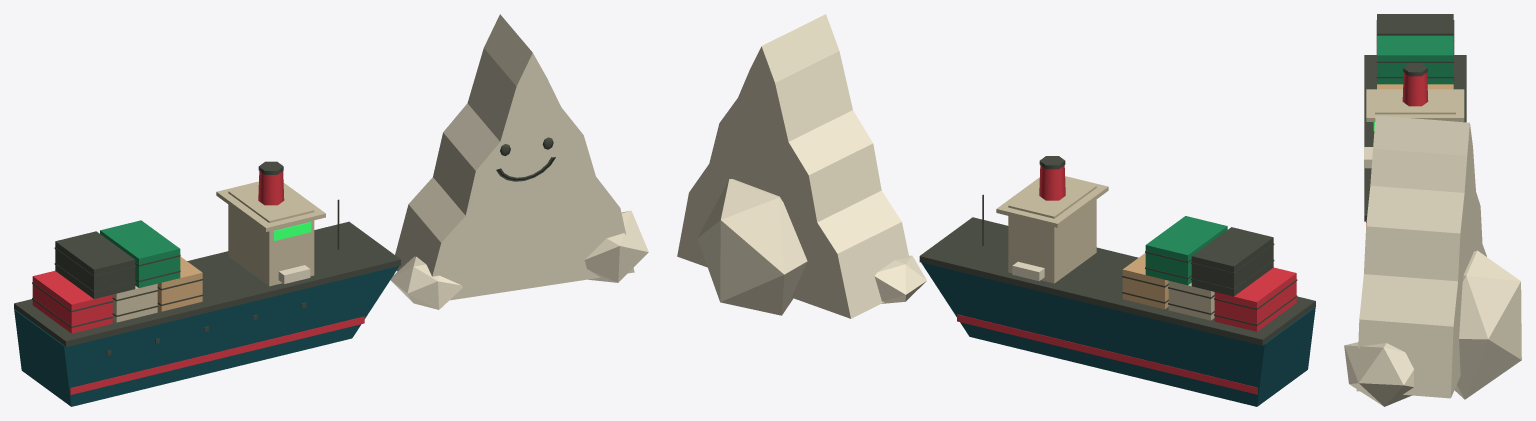
The model's file is containership-iceberg.glb.
3 views of the same model, side by side, from view 1: azimuth 30°, elevation 25°; view 2: azimuth 150°, elevation 25°; view 3: azimuth 270°, elevation 25° (orthographic). The views are drawn at different scales.
Parts seen in each view (by area): view 1: Iceberg, Ship, toy_hop_3, toy_hop_0, toy_hop_4, toy_hop_2, toy_hop_1; view 2: Iceberg, Ship, toy_hop_3, toy_hop_0, toy_hop_4, toy_hop_2, toy_hop_1; view 3: Iceberg, Ship, toy_hop_4, toy_hop_3, toy_hop_2.
Boxes of the visible parts, box(x1,y1,x2,y2) form: Iceberg: box(390, 14, 648, 309); Ship: box(14, 161, 400, 406); toy_hop_3: box(54, 231, 135, 298); toy_hop_0: box(32, 271, 113, 333); toy_hop_4: box(100, 220, 180, 287); toy_hop_2: box(157, 256, 203, 311); toy_hop_1: box(112, 283, 158, 322); Iceberg: box(677, 14, 926, 318); Ship: box(919, 156, 1315, 406); toy_hop_3: box(1191, 227, 1274, 296); toy_hop_0: box(1214, 267, 1297, 331); toy_hop_4: box(1145, 216, 1227, 285); toy_hop_2: box(1122, 253, 1168, 309); toy_hop_1: box(1168, 281, 1214, 320); Iceberg: box(1344, 115, 1521, 406); Ship: box(1364, 55, 1466, 225); toy_hop_4: box(1376, 35, 1454, 84); toy_hop_3: box(1376, 14, 1454, 40); toy_hop_2: box(1376, 81, 1454, 89).
Size of the model in its own units: 31.28 by 13.37 by 8.35.
